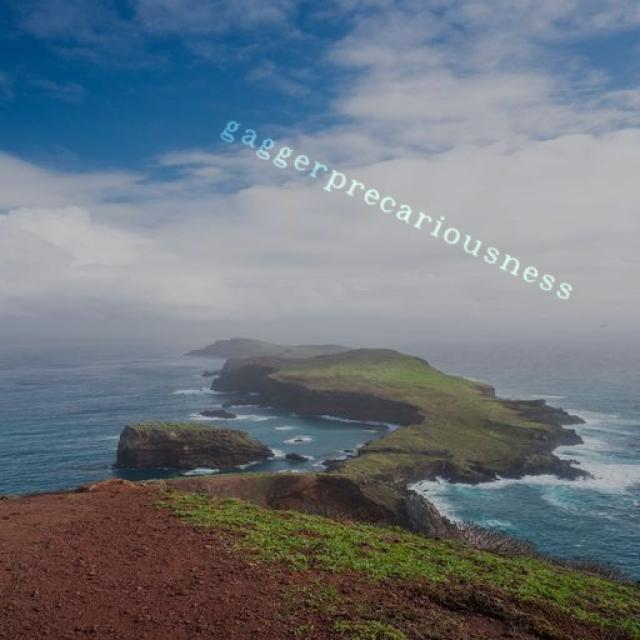watermark: (213, 108, 589, 306)
